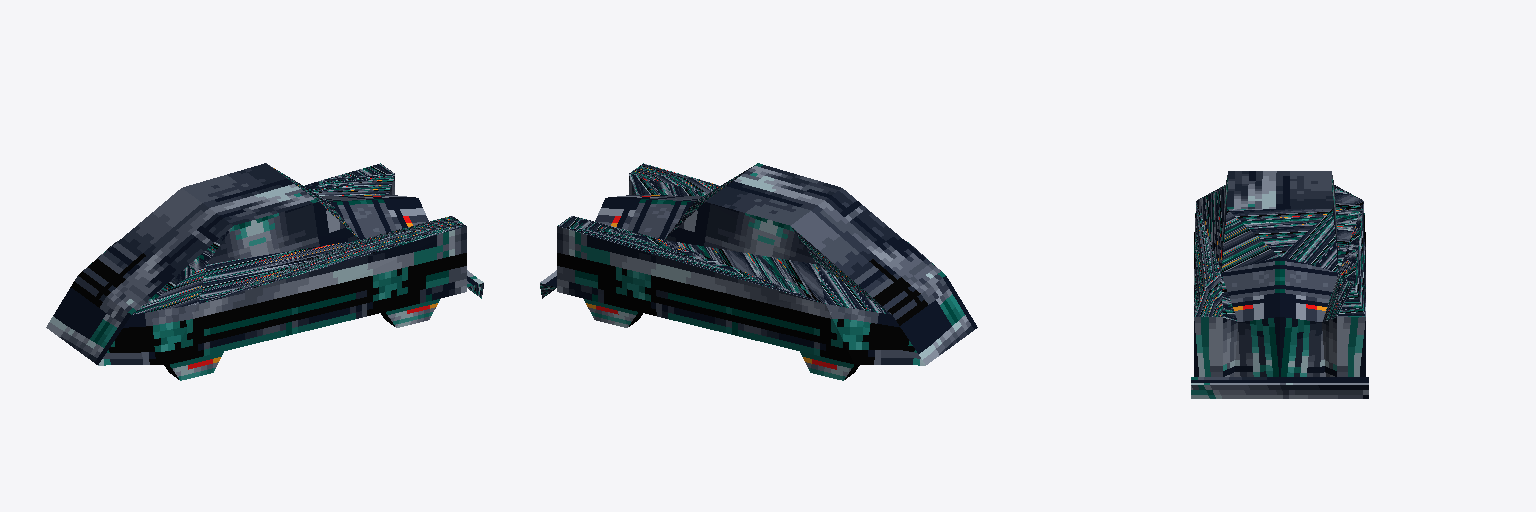
3 renders of one model, left to right at view 1: azimuth 30°, elevation 25°; view 2: azimuth 150°, elevation 25°; view 3: azimuth 270°, elevation 25°, orthographic.
Bounding box in the file's own units: 4.26 × 1.43 × 1.78.
Materials: 1 (1 with a texture image).